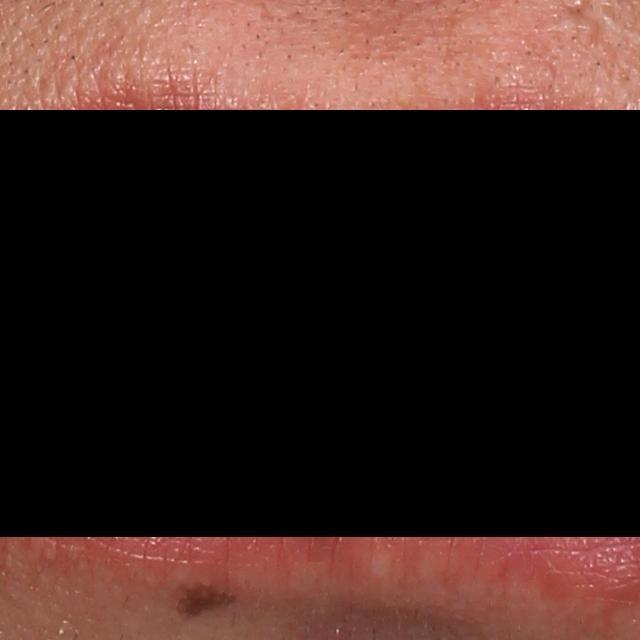nevus: (178, 578, 233, 617)
